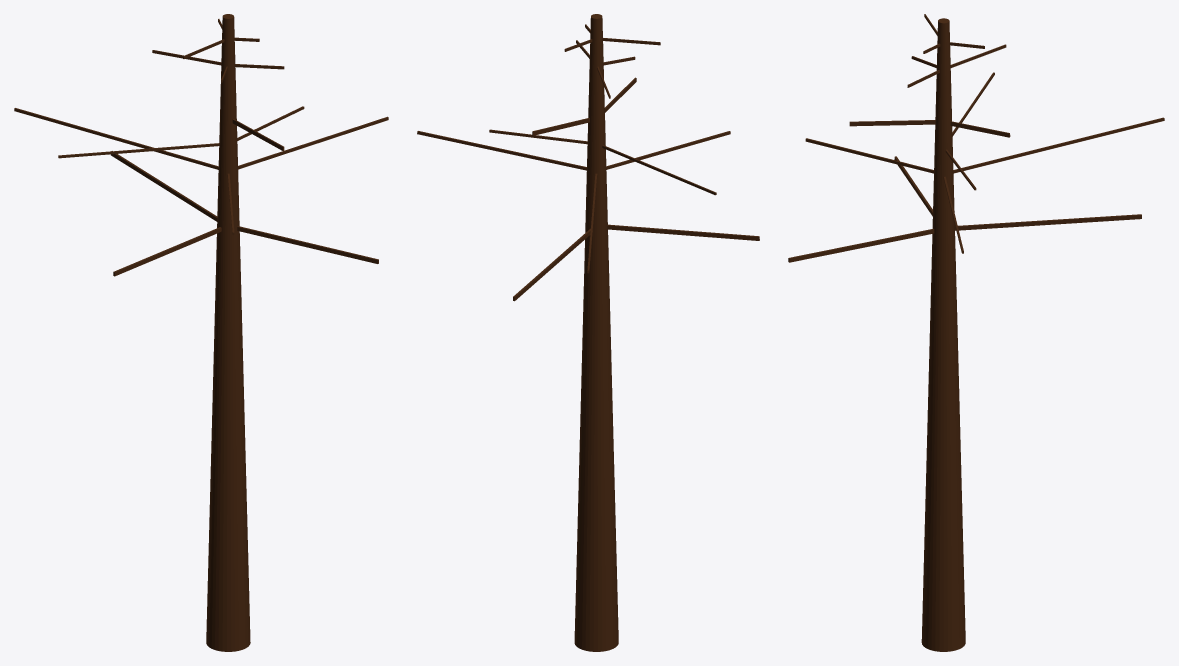
Rendered from tree_1.fbx.
3 views of the same model, side by side, from view 1: azimuth 30°, elevation 25°; view 2: azimuth 150°, elevation 25°; view 3: azimuth 270°, elevation 25° (orthographic).
Visible parts, largest first — view 1: Cylinder; view 2: Cylinder; view 3: Cylinder.
Part boxes in pixels (x1,y1,x2,y2): Cylinder: (14,14,388,651); Cylinder: (417,14,759,651); Cylinder: (788,14,1164,651).
Bounding box in the file's own units: 5198 × 9893 × 5424.
